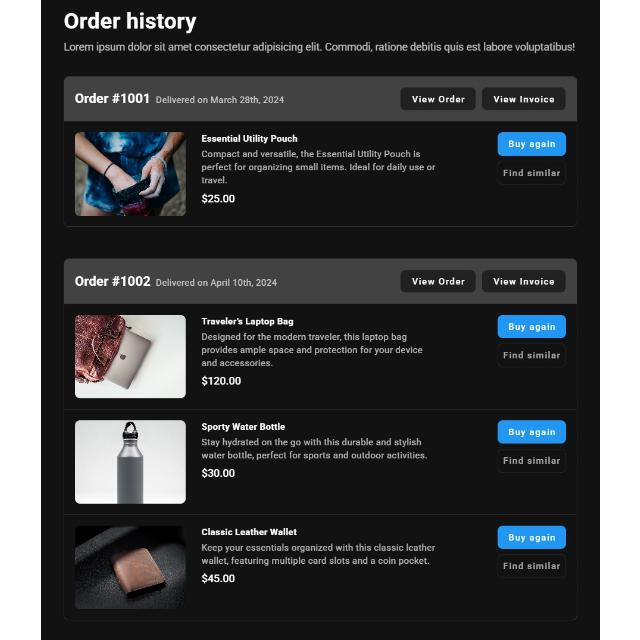QLabel: (59, 38, 575, 56), (200, 148, 436, 184), (199, 332, 425, 368), (200, 436, 426, 462), (200, 542, 436, 566), (61, 12, 197, 32), (154, 277, 278, 287), (200, 316, 294, 328), (154, 96, 284, 104), (72, 92, 150, 105), (199, 134, 297, 144), (200, 528, 296, 538), (201, 422, 285, 432), (73, 276, 151, 286), (489, 276, 555, 286), (501, 350, 563, 360), (488, 95, 556, 104), (406, 276, 466, 286), (500, 168, 560, 178), (407, 95, 465, 104), (504, 139, 554, 149), (505, 533, 555, 543), (505, 427, 555, 437), (500, 456, 562, 464), (501, 562, 562, 570), (505, 323, 555, 332), (200, 466, 234, 479), (200, 193, 234, 205), (200, 572, 234, 584), (200, 375, 240, 385)
VBtn: (481, 87, 565, 111), (399, 86, 475, 112), (480, 270, 564, 292), (399, 269, 475, 293), (496, 314, 566, 340), (496, 160, 566, 186), (496, 342, 566, 368), (496, 524, 566, 550), (496, 448, 566, 474), (496, 553, 564, 579), (496, 132, 566, 156), (496, 420, 566, 444)
VCard: (61, 256, 578, 624), (61, 74, 579, 230)
VImg: (72, 418, 186, 506), (73, 130, 187, 218), (72, 524, 188, 610), (72, 314, 186, 400)
